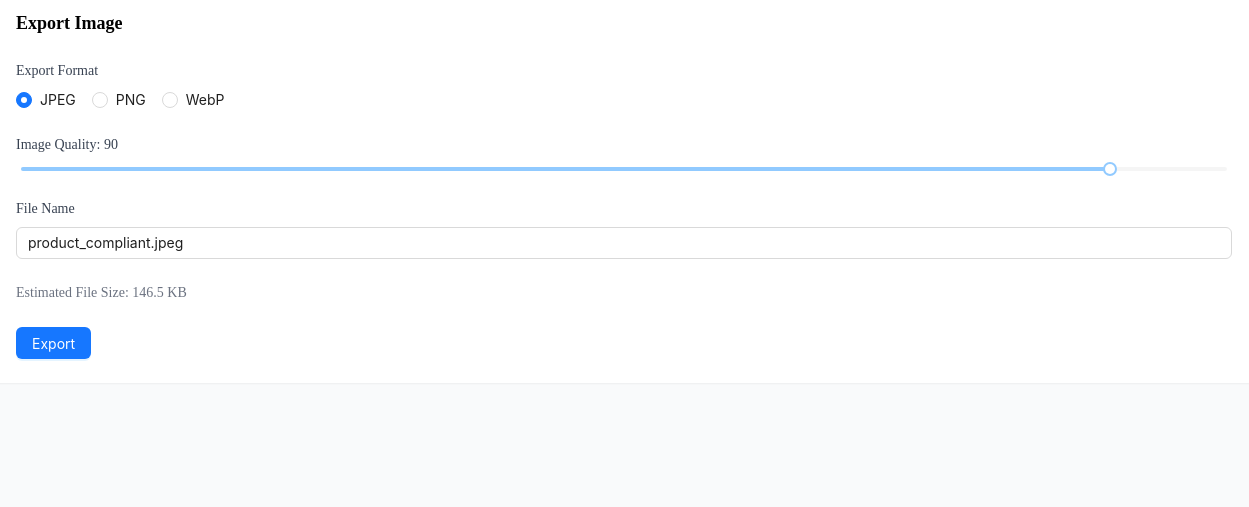
Scenario: ExportPanel › shows success message after export
What coordinates should you click on to do the following:
click the button "Export"
I would click on:
 (54, 343)
Its box is [16,327,91,359].
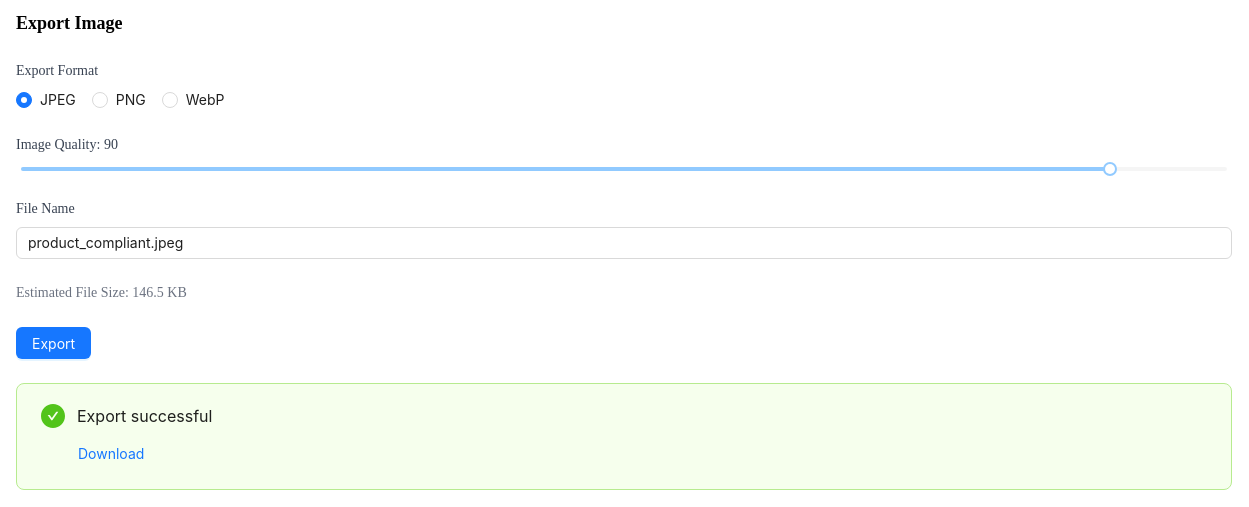
Check: the text "Export successful" is shown, box [77,406,212,426]
